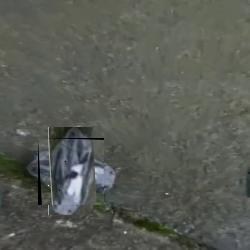plastic: (38, 138, 104, 205)
